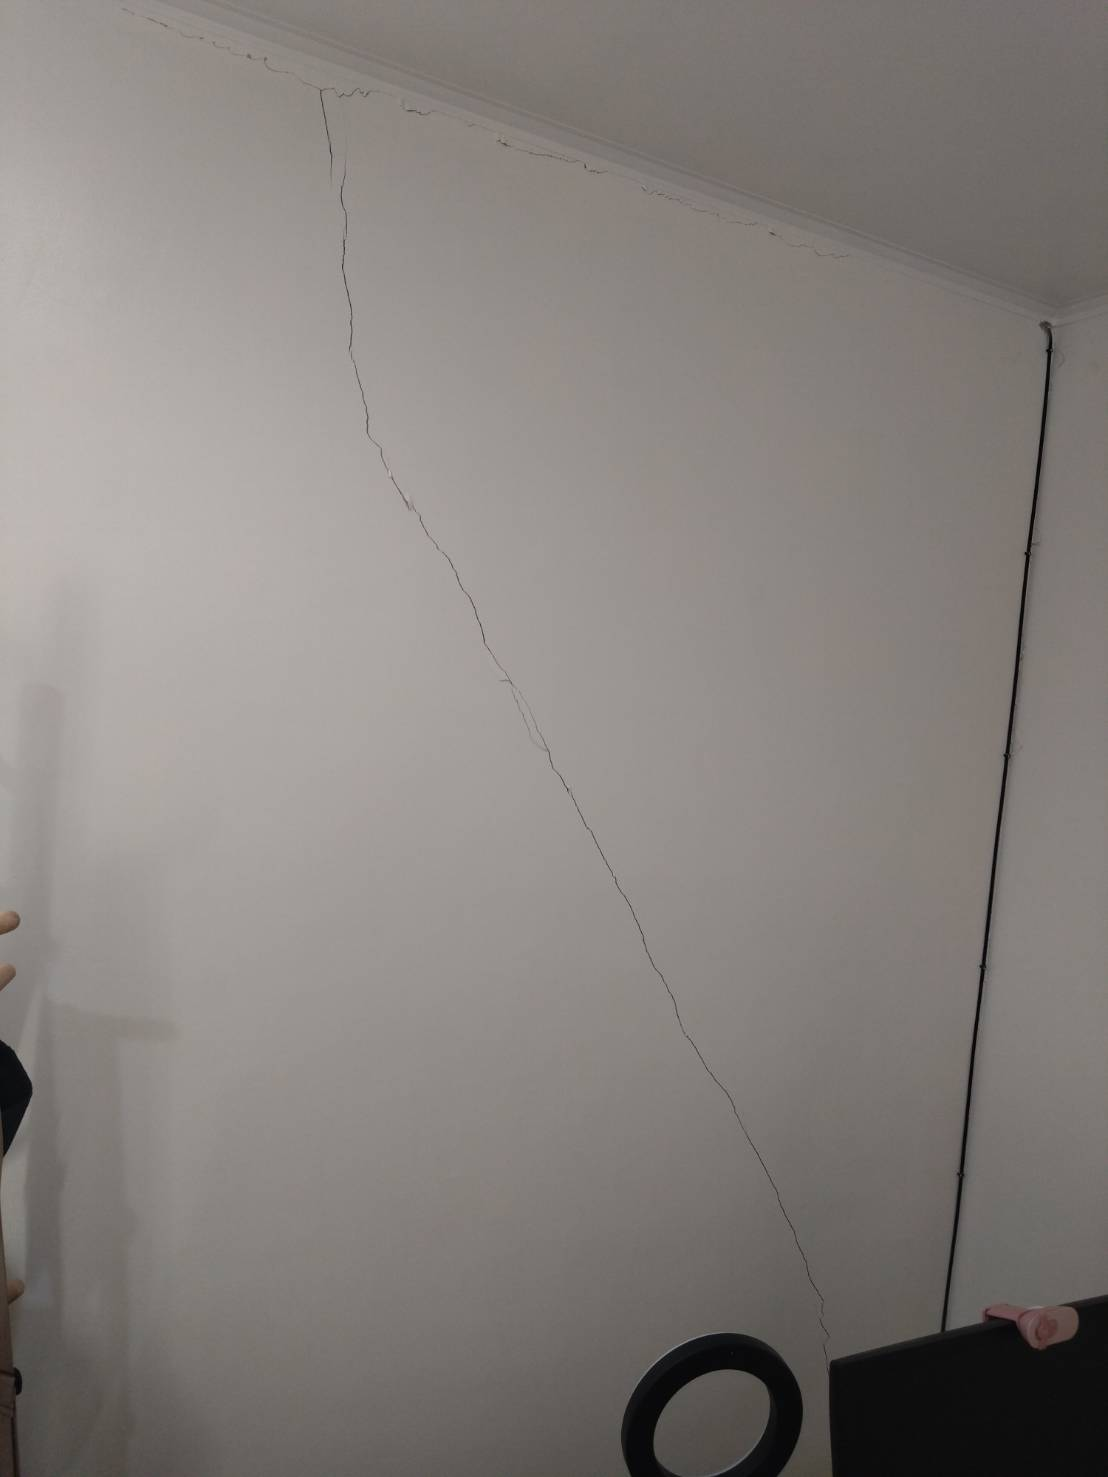Low: (279, 71, 851, 1320)
